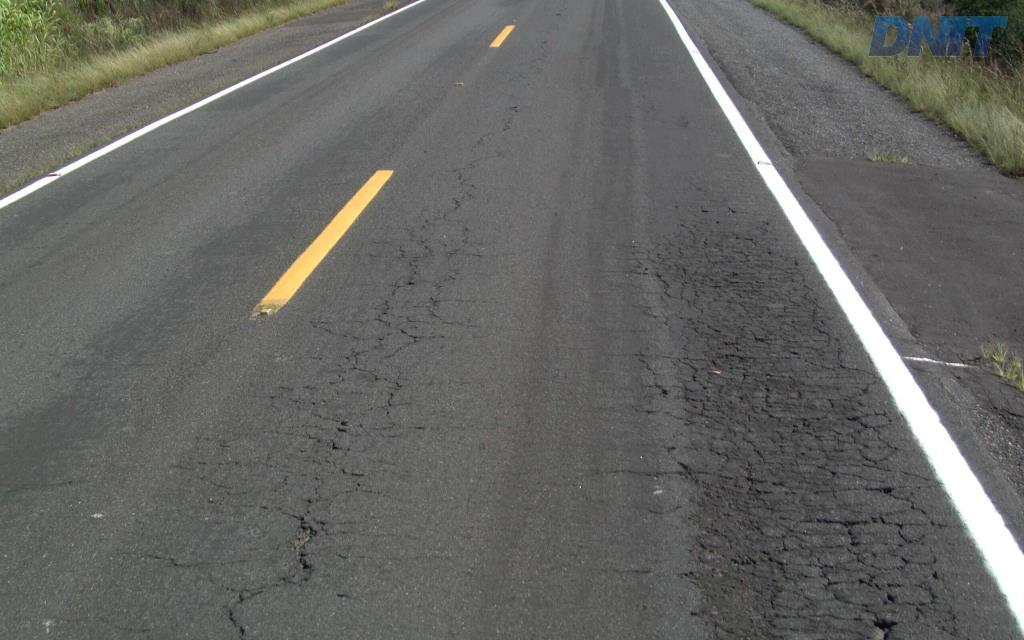crack: (677, 317, 940, 639), (792, 495, 925, 547), (276, 498, 318, 587), (222, 585, 265, 637), (700, 267, 765, 300)
